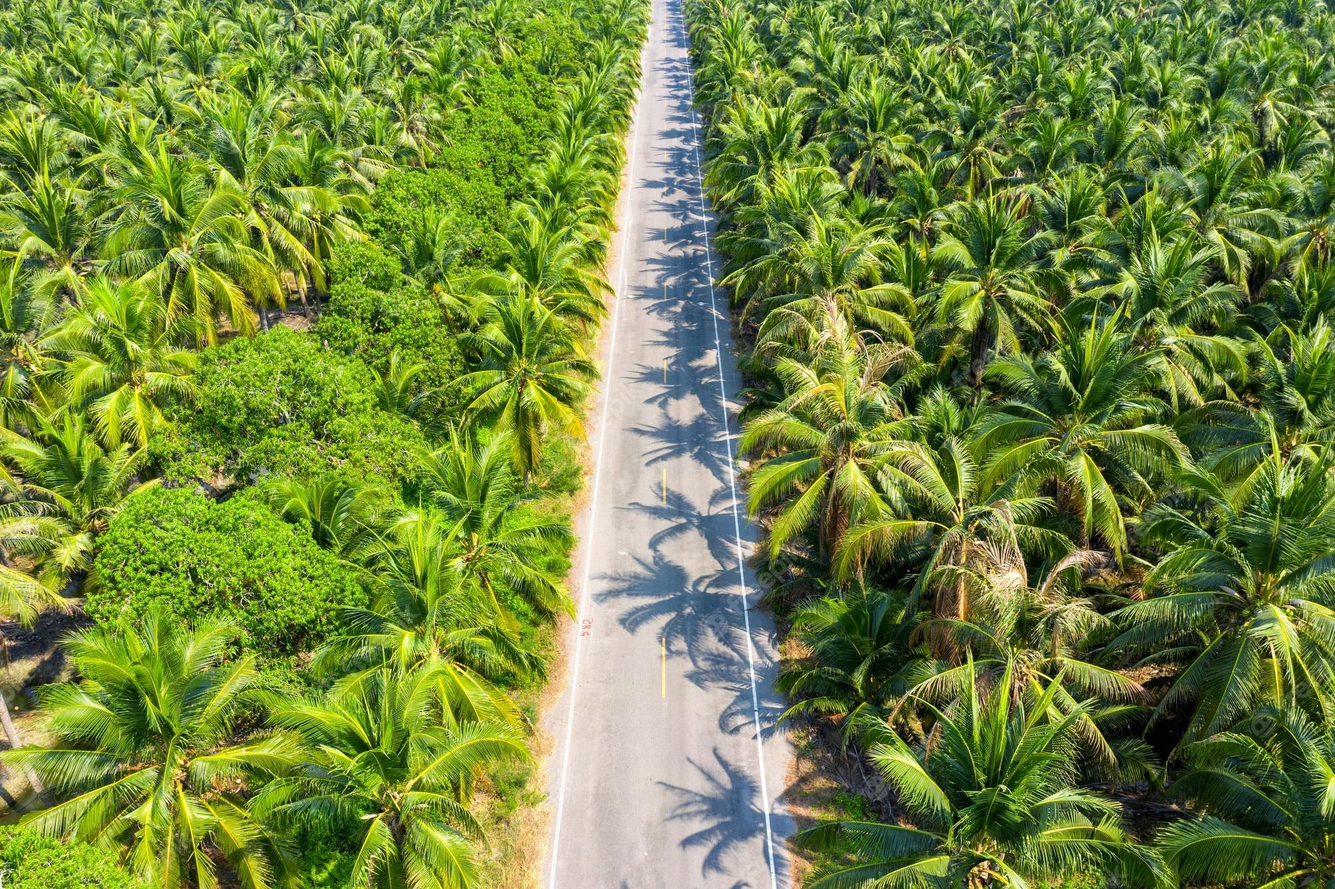coconut_tree: (57, 617, 296, 888), (302, 690, 502, 888), (329, 487, 536, 665), (761, 404, 960, 561)
